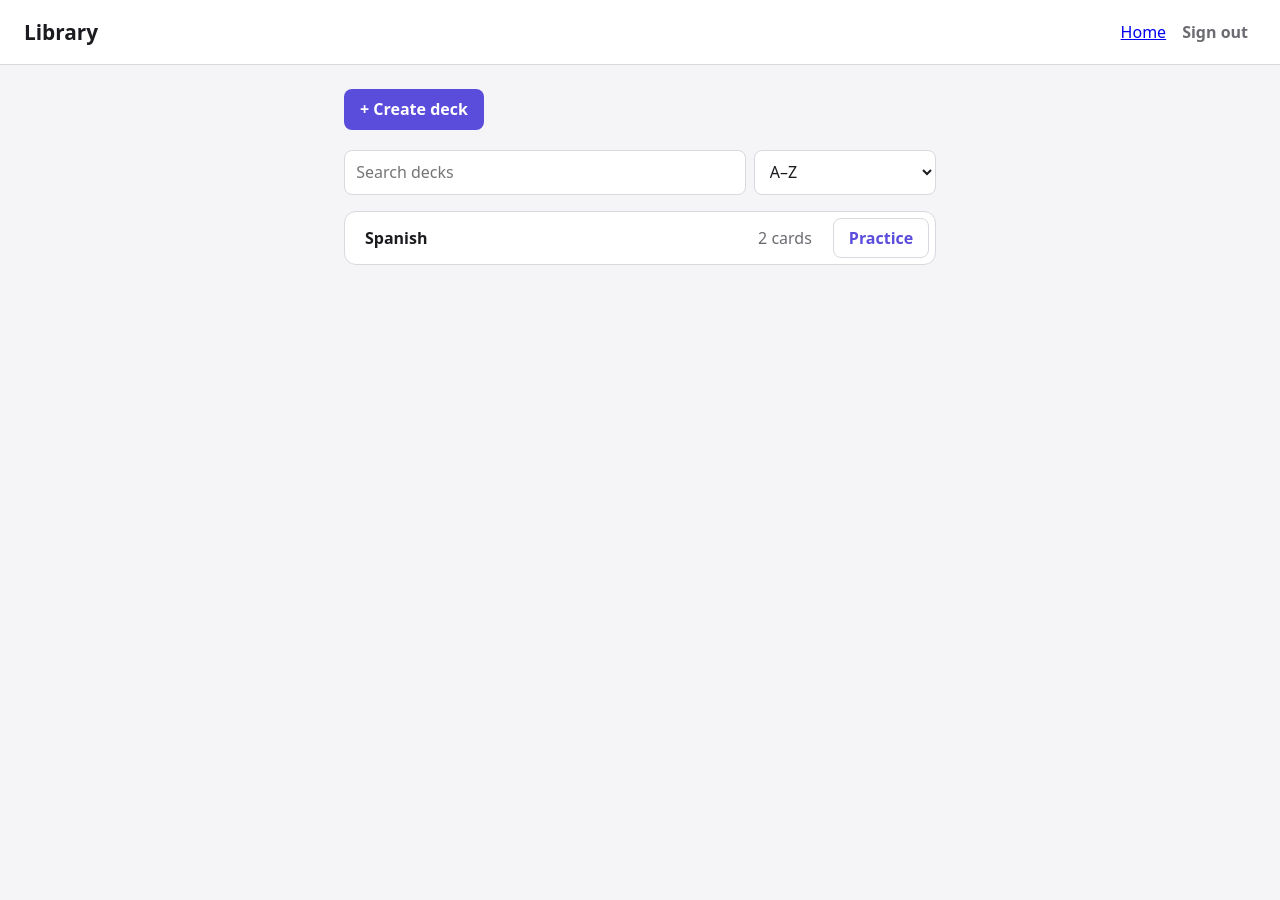
Test: LibraryPage › deck actions sheet › closes on Cancel
Click the button "Spanish 2 cards" at (396, 238), box [351,218,825,258]
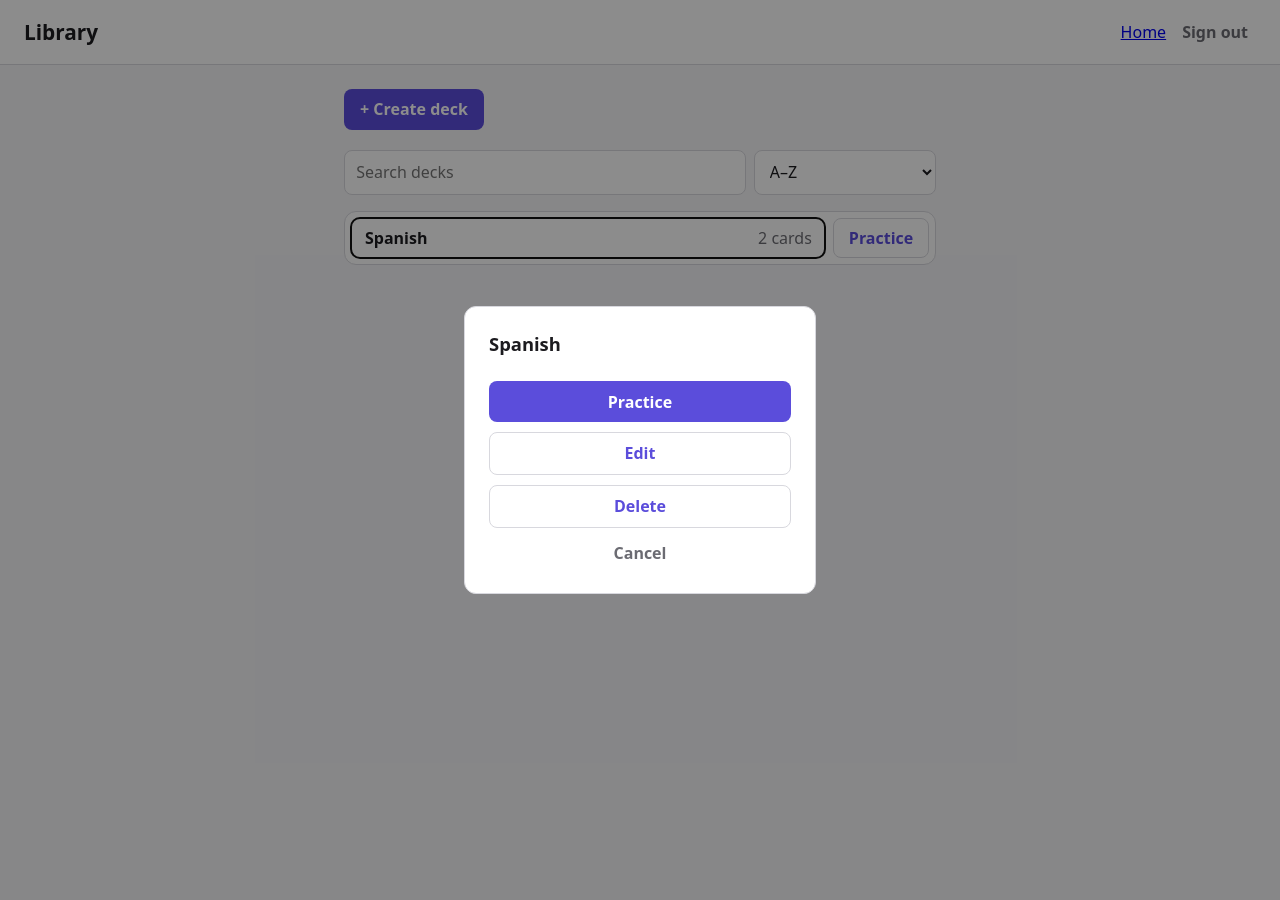
Click the button "Cancel" at (640, 553), box [489,537,791,569]
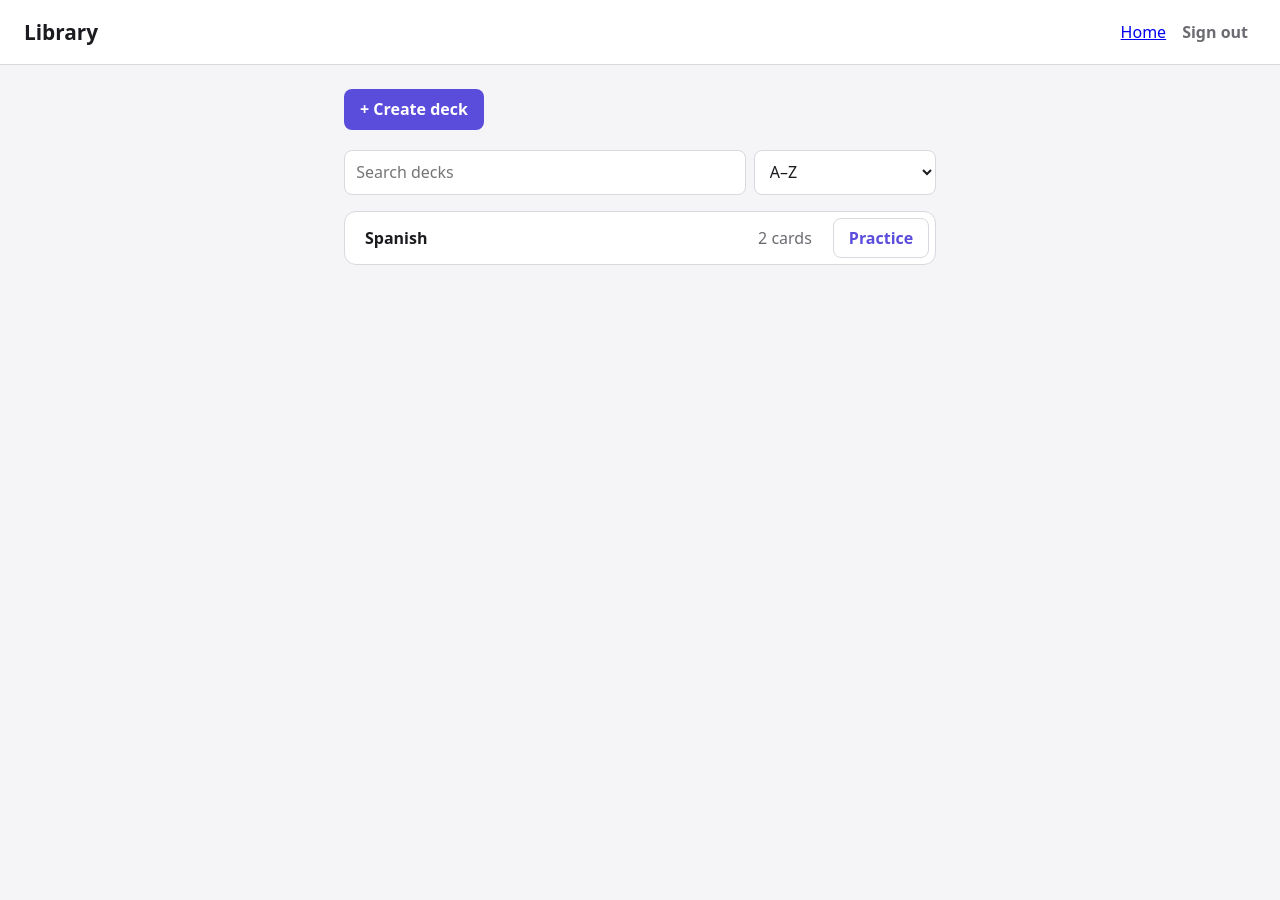
Now the dialog is gone
